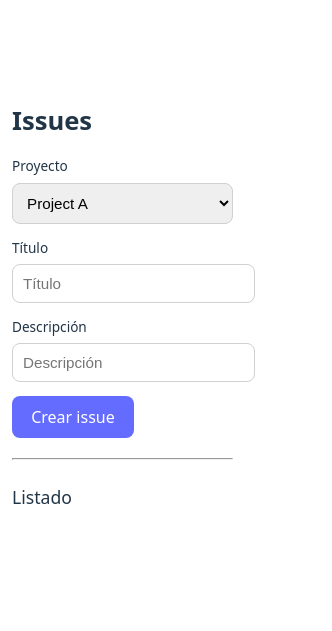
creates a new issue
Select "Project A" in the dropdown: (122, 203) [12,183,233,224]
In the field with placeholder "Título": (134, 284) [12,264,255,303], type "New Issue"
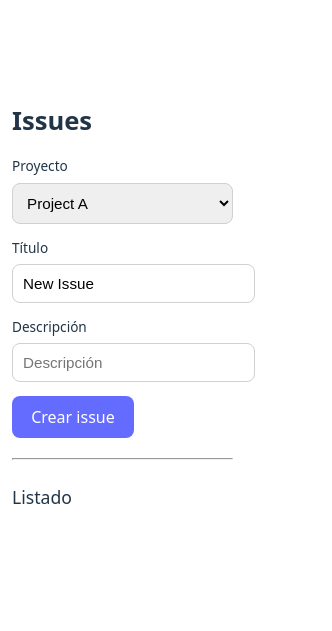
In the field with placeholder "Descripción": (134, 363) [12,344,255,382], type "New issue description"
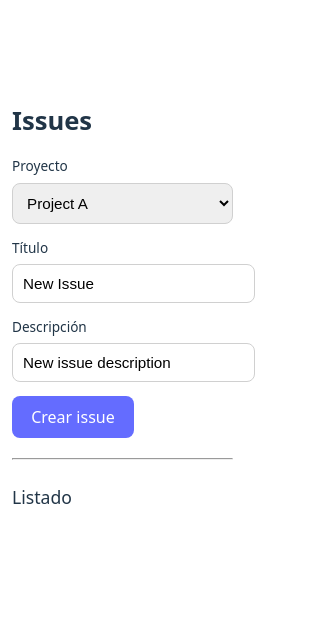
Click the button "Crear issue": (73, 417) [12,396,134,438]
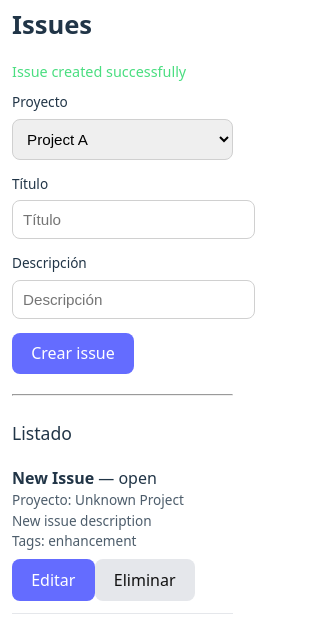
expect the text "New Issue" is shown: met, box [12,467,94,489]
